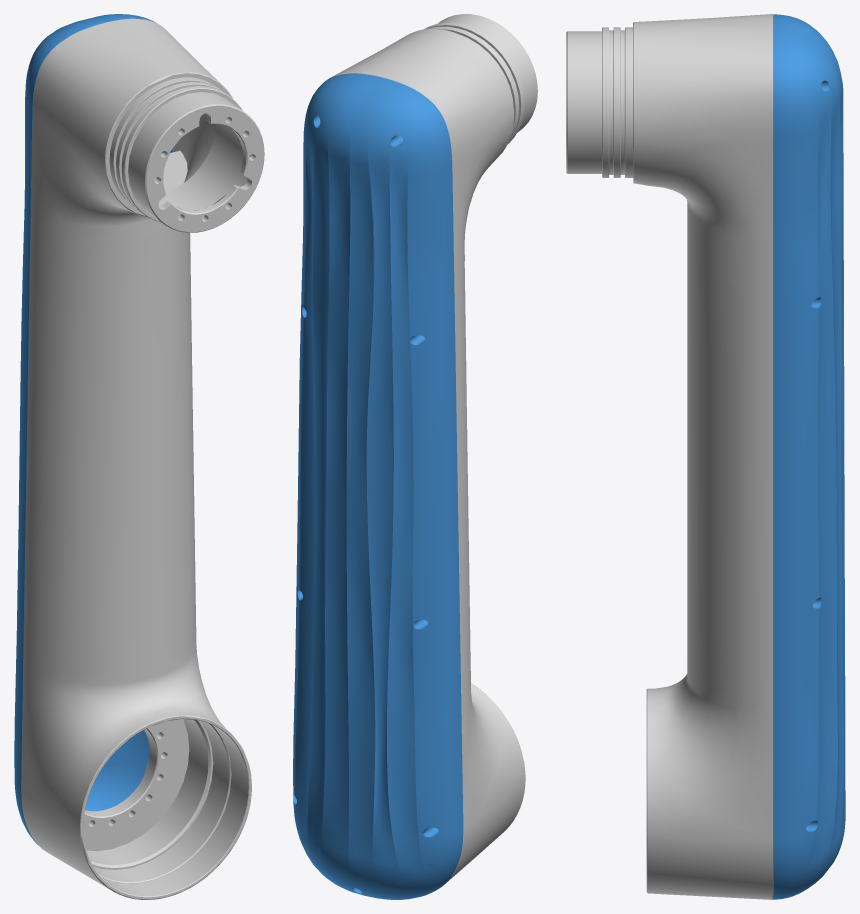
The picture shows the model from 3 angles, left to right: view 1: azimuth 30°, elevation 25°; view 2: azimuth 150°, elevation 25°; view 3: azimuth 270°, elevation 25°; orthographic projection. The views are drawn at different scales.
Bounding box in the file's own units: 89 × 412 × 121.
